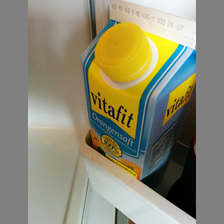juice: (80, 1, 196, 184)
